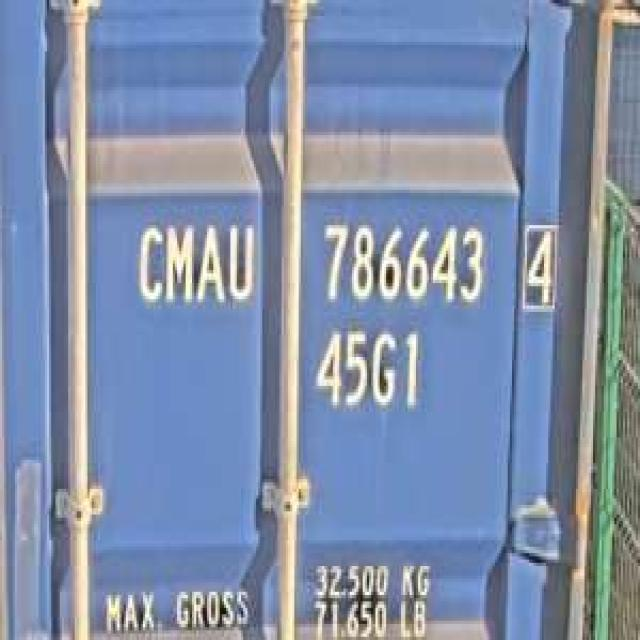dv: (516, 212, 561, 312)
owner: (130, 209, 258, 312)
serial: (314, 212, 488, 309)
size: (312, 322, 424, 418)
